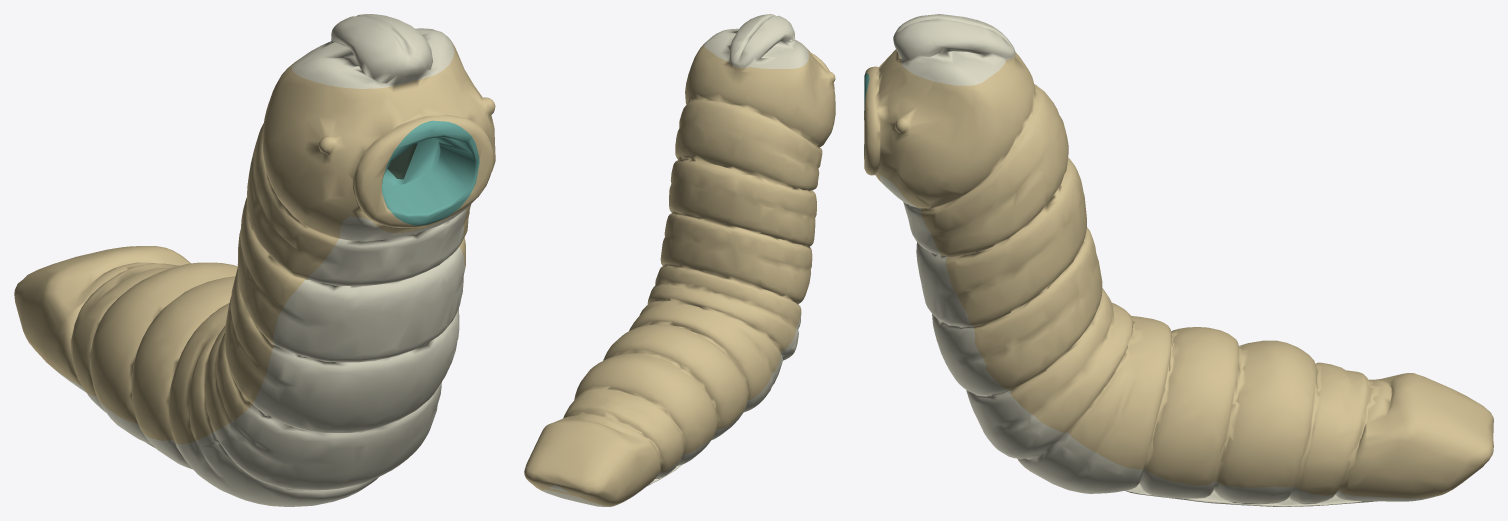
File: worm.glb
The picture shows the model from 3 angles, left to right: view 1: azimuth 30°, elevation 25°; view 2: azimuth 150°, elevation 25°; view 3: azimuth 270°, elevation 25°; orthographic projection. The views are drawn at different scales.
Visible parts, largest first — view 1: worm; view 2: worm; view 3: worm.
Boxes of the visible parts, <box> form: worm: <box>14,14,495,506</box>; worm: <box>524,14,835,506</box>; worm: <box>864,14,1493,506</box>.
Bounding box in the file's own units: 1.05 × 2.6 × 3.17.
